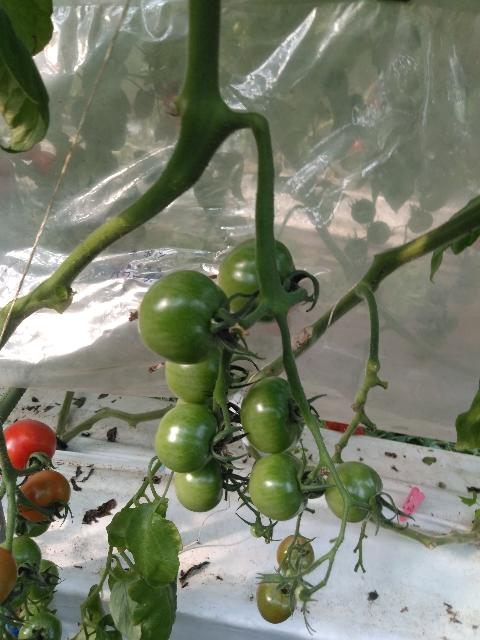l_fully_ripened: (4, 419, 57, 476)
l_green: (138, 270, 231, 365), (217, 236, 297, 325), (240, 376, 307, 453), (155, 404, 218, 473), (248, 452, 309, 521), (323, 460, 383, 524), (165, 352, 228, 404), (174, 454, 223, 513), (0, 536, 42, 590), (256, 575, 297, 624), (27, 559, 59, 601), (18, 611, 62, 640), (12, 510, 53, 537), (1, 581, 31, 613), (285, 568, 302, 584), (295, 585, 312, 601), (250, 525, 263, 538)
l_half_ripened: (16, 469, 71, 522), (276, 534, 314, 577), (0, 546, 18, 606)
